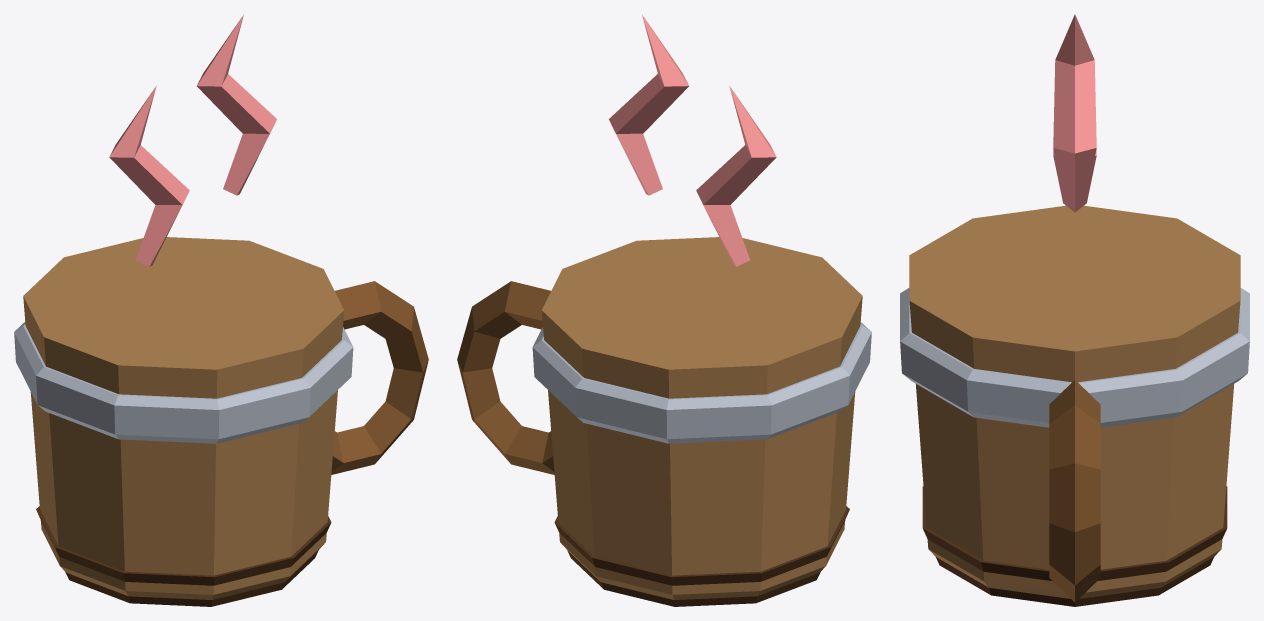
The model's file is cup.glb.
The picture shows the model from 3 angles, left to right: view 1: azimuth 30°, elevation 25°; view 2: azimuth 150°, elevation 25°; view 3: azimuth 270°, elevation 25°; orthographic projection. The views are drawn at different scales.
Visible parts, largest first — view 1: cup; view 2: cup; view 3: cup.
Boxes of the visible parts, box(x1,y1,x2,y2) form: cup: box(14, 14, 428, 606); cup: box(457, 14, 871, 606); cup: box(900, 14, 1249, 606).
Bounding box in the file's own units: 0.2473 × 0.315 × 0.1769.
